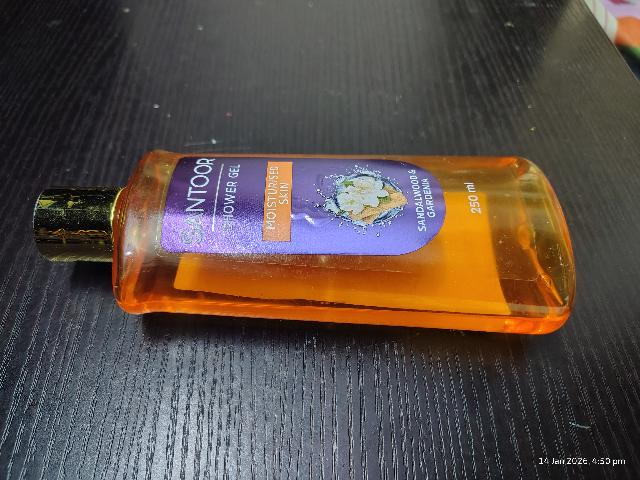santoor bodywash: (28, 153, 573, 339)
